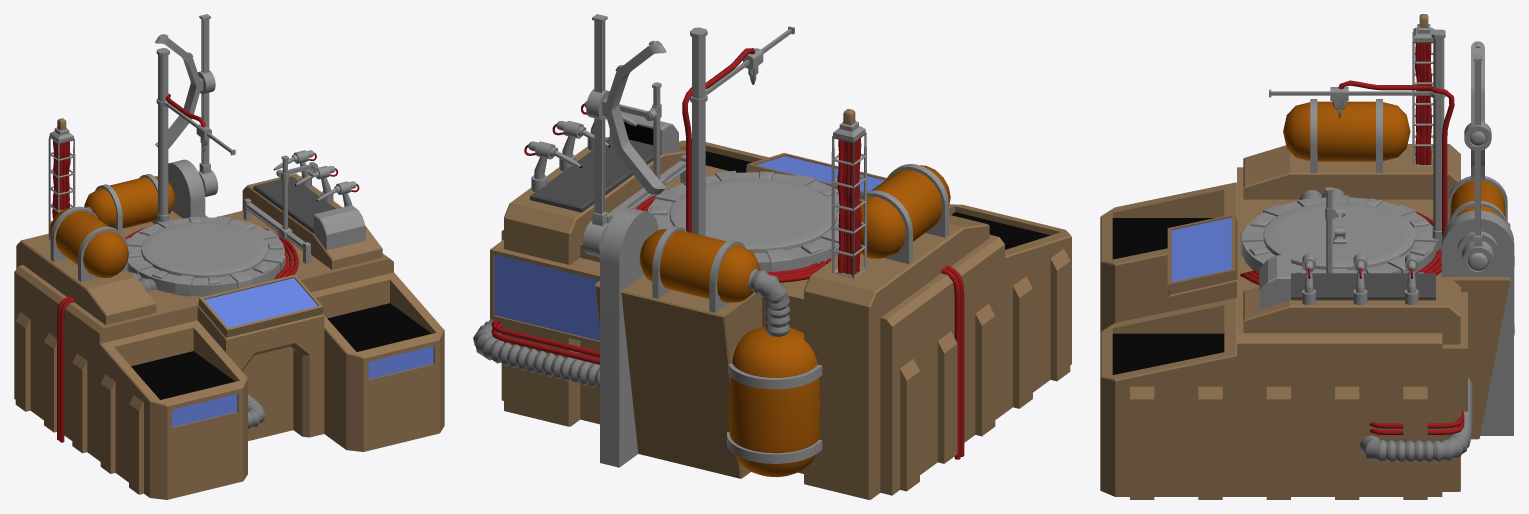
Rendered from Rocket Factory.fbx.
3 renders of one model, left to right at view 1: azimuth 30°, elevation 25°; view 2: azimuth 150°, elevation 25°; view 3: azimuth 270°, elevation 25°, orthographic. The views are drawn at different scales.
Visible parts, largest first — view 1: DropZones, Base, BuildBase, SideSupports, Screen Front, Conveyor, Plane, Plane.002, RotatingWelder, MoverArmBase, MoverArmHand, TankHolder (+8 smaller); view 2: Base, SideSupports, BuildBase, Plane.001, MoverArmBase, DropZones, Screen Back, Plane.002, Plane, Conveyor, MoverArmHand, Pipe5 (+17 smaller); view 3: Base, DropZones, SideSupports, BuildBase, Plane, MoverArmBase, Conveyor, Screen Front, Pipe5, RotatingWelder, Screen Back, Cables (+13 smaller).
Part boxes in pixels (x1,y1,x2,y2): DropZones: [99, 272, 444, 499]; Base: [14, 173, 393, 460]; BuildBase: [126, 216, 285, 296]; SideSupports: [15, 312, 143, 494]; Screen Front: [198, 274, 323, 337]; Conveyor: [253, 176, 365, 250]; Plane: [49, 207, 128, 277]; Plane.002: [84, 176, 175, 228]; RotatingWelder: [156, 48, 169, 222]; MoverArmBase: [168, 159, 205, 218]; MoverArmHand: [155, 34, 215, 148]; TankHolder: [50, 206, 127, 281]; Base: [501, 137, 1004, 499]; SideSupports: [900, 249, 1070, 491]; BuildBase: [647, 170, 839, 271]; Plane.001: [729, 326, 819, 477]; MoverArmBase: [600, 207, 658, 467]; DropZones: [679, 140, 1071, 412]; Screen Back: [490, 239, 599, 345]; Plane.002: [639, 229, 760, 302]; Plane: [859, 165, 950, 258]; Conveyor: [530, 112, 678, 212]; MoverArmHand: [586, 40, 666, 194]; Pipe5: [473, 319, 599, 388]; Base: [1168, 144, 1510, 496]; DropZones: [1100, 182, 1236, 496]; SideSupports: [1130, 386, 1427, 499]; BuildBase: [1240, 195, 1438, 273]; Plane: [1283, 101, 1410, 161]; MoverArmBase: [1441, 210, 1514, 435]; Conveyor: [1259, 255, 1435, 309]; Screen Front: [1167, 214, 1237, 294]; Pipe5: [1359, 378, 1472, 462]; RotatingWelder: [1431, 29, 1445, 249]; Screen Back: [1442, 292, 1467, 411]; Cables: [1415, 43, 1432, 164].
Bounding box in the file's own units: 6.52 × 6.37 × 6.06.
